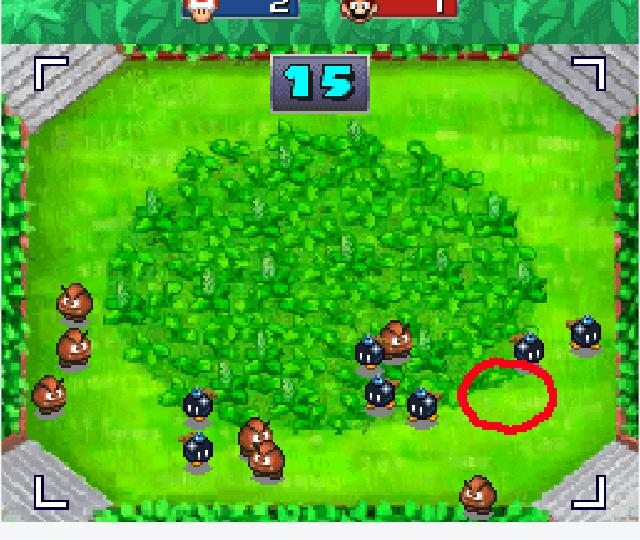bomb: (175, 378, 222, 430), (558, 312, 608, 358), (501, 325, 548, 372), (399, 385, 446, 430), (175, 431, 218, 479), (361, 375, 403, 418), (352, 332, 388, 374)
goomba: (25, 369, 75, 423), (48, 282, 105, 329), (453, 470, 502, 522), (244, 439, 291, 488), (372, 316, 418, 365), (53, 324, 98, 374), (233, 416, 276, 458)
